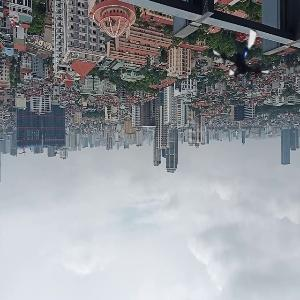drone: (210, 22, 277, 89)
